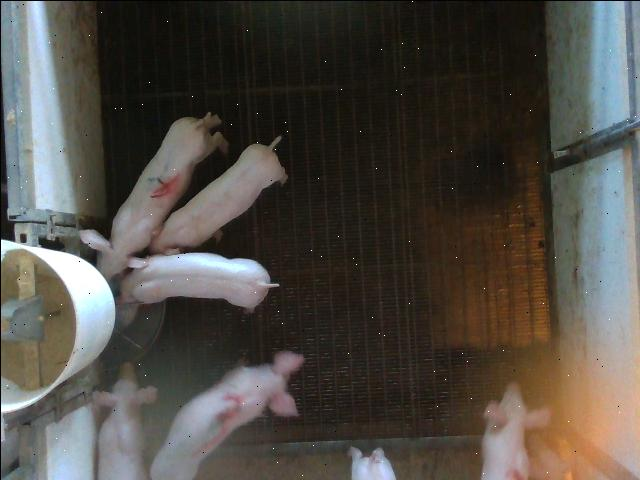pig-3: (149, 350, 304, 479)
pig-4: (79, 111, 226, 279)
